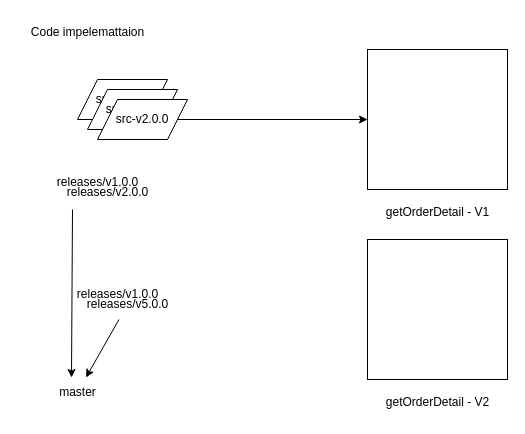
Image size: 525x434. Some labels were removed from this diagram. Here are the shapes that lost their labels. From the top down, the centre of each, then its label:
(437,119): id customerName Item<List>
(437,309): id cutomer Item<List> Location OrderHistory
